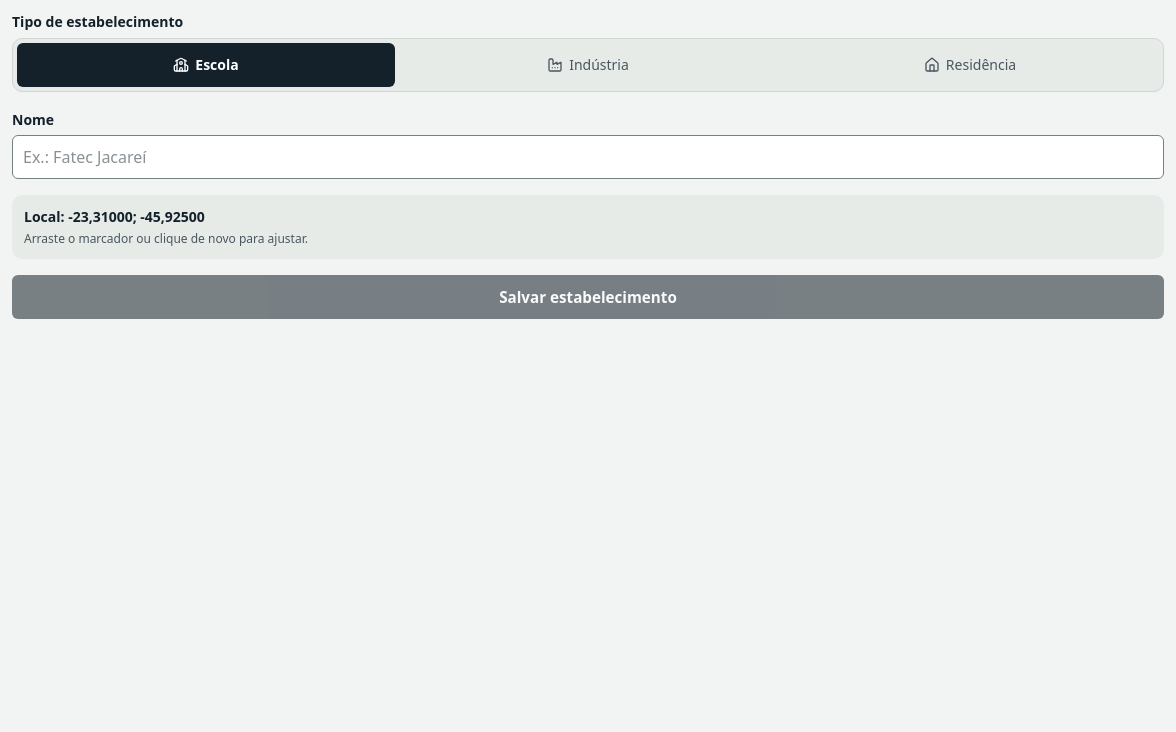
Test case: FormEstabelecimento › salva a escola e conta qual área mudou de classe
The width and height of the screenshot is (1176, 732).
Expected: the text "Local: -23,31000; -45,92500" is shown, [24,207,205,226]
Expected: the radio button labelled "Escola" is shown, [17,43,395,87]
Type "EE Nova" into the field labelled "Nome" at (588, 157), box [12,135,1164,179]
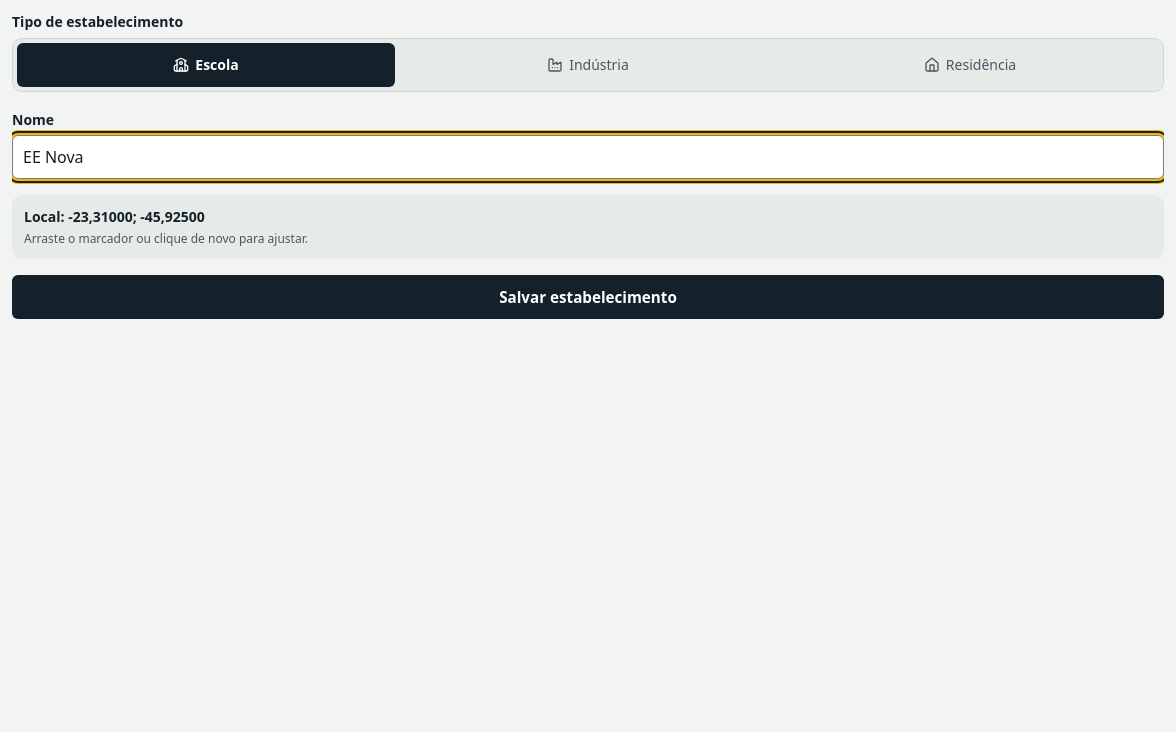
Click the button "Salvar estabelecimento" at (588, 297), box [12,275,1164,319]
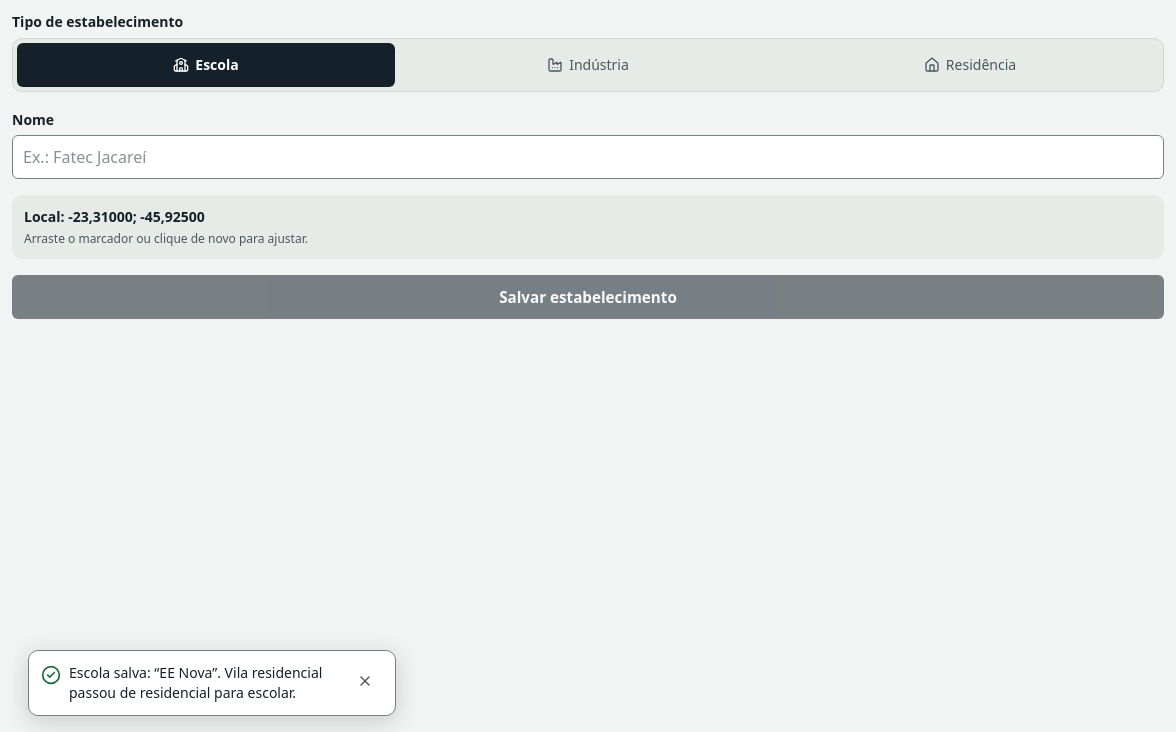
Expected: the message reads "Escola salva: “EE Nova”. Vila residencial passou de residencial para escolar.", [69,663,322,702]
